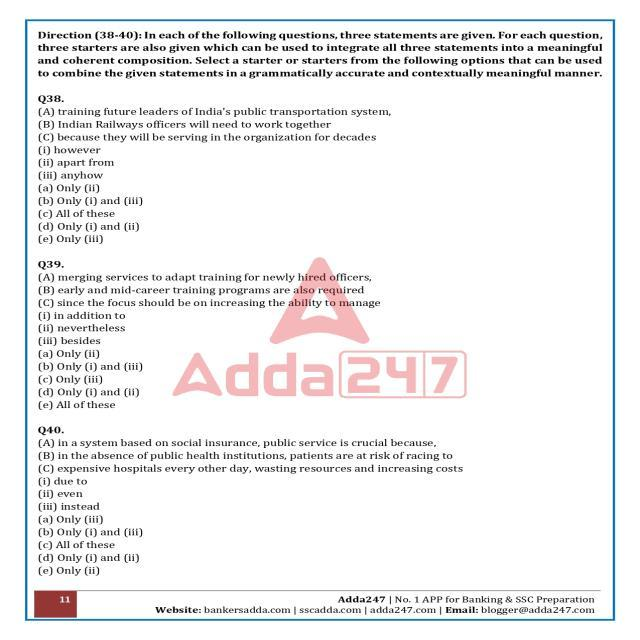Answer_Block: (32, 182, 610, 254), (31, 512, 609, 582), (31, 349, 609, 414)
Instruction: (31, 23, 609, 88)
Question_Answer_Block: (31, 90, 609, 257), (31, 423, 609, 581), (31, 257, 609, 414)
Question_Block: (31, 258, 609, 350), (31, 90, 609, 181), (31, 423, 609, 512)
Question_Paper_Area: (31, 24, 609, 588)
